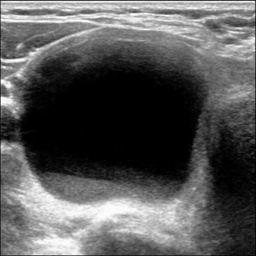mass: (23, 38, 207, 205)
